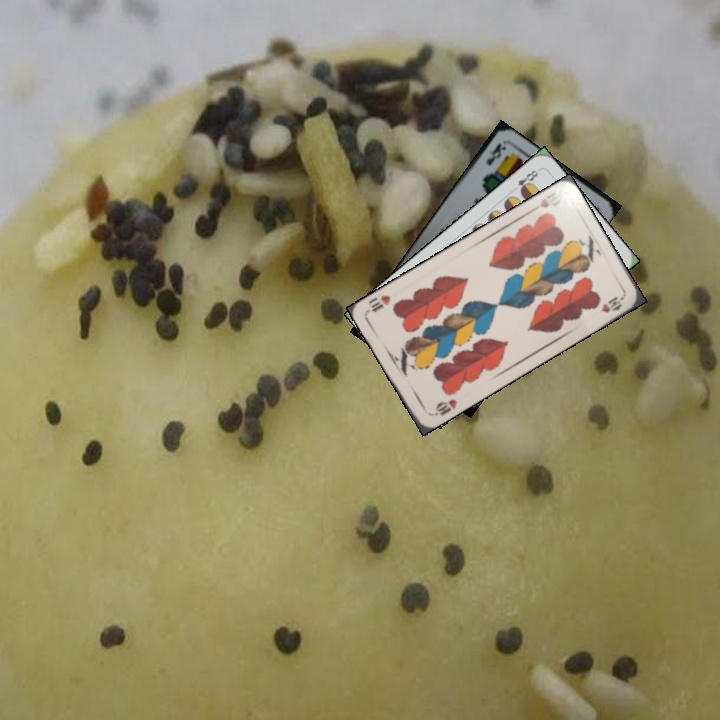E8: (507, 166, 541, 196)
EK: (482, 139, 508, 168)
H10: (428, 395, 459, 418), (526, 194, 552, 215)
